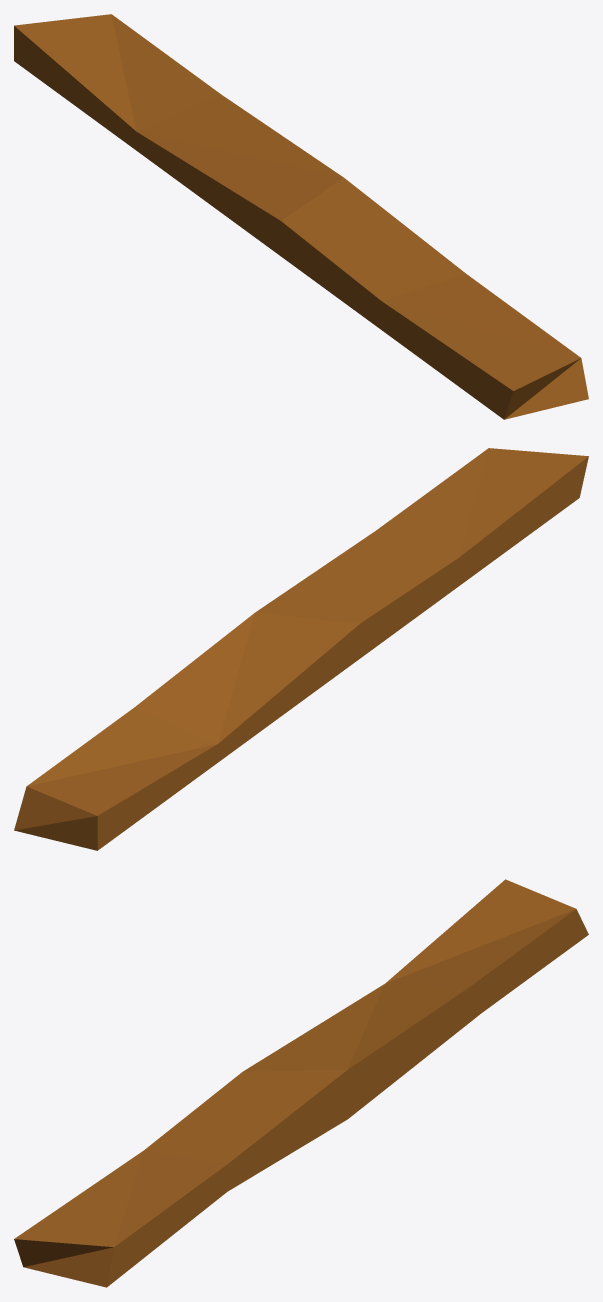
File: Single_Plank_01.fbx
The picture shows the model from 3 angles, top to bottom: view 1: azimuth 30°, elevation 25°; view 2: azimuth 150°, elevation 25°; view 3: azimuth 330°, elevation 25°; orthographic projection.
Visible parts, largest first — view 1: Plank_01; view 2: Plank_01; view 3: Plank_01.
Part boxes in pixels (box(x1,y1,x2,y2)): Plank_01: box(14, 14, 588, 419); Plank_01: box(14, 448, 588, 850); Plank_01: box(14, 879, 588, 1287).
Bounding box in the file's own units: 0.25 × 0.1421 × 2.55.
